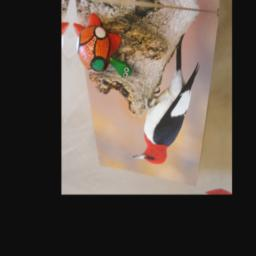Woodpecker: (132, 28, 202, 170)
